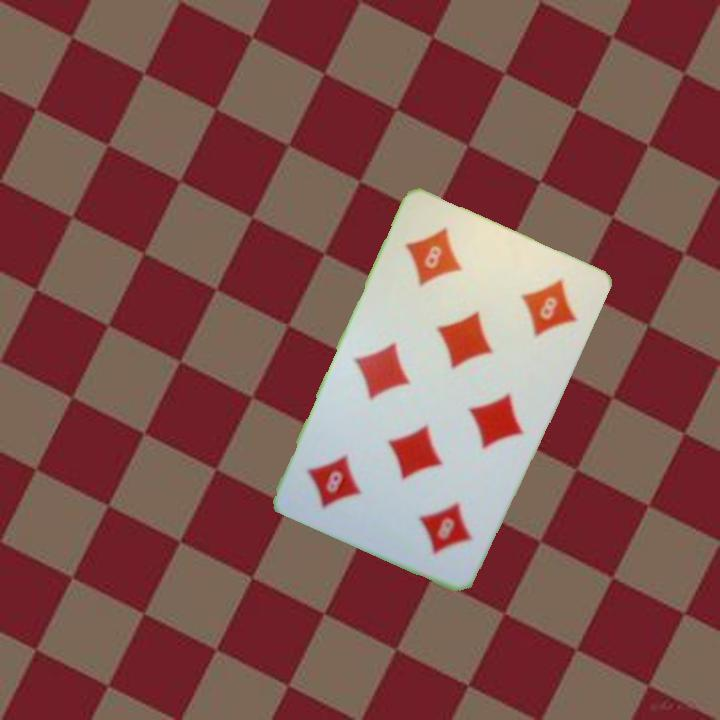d_8.png: (372, 459, 497, 576), (383, 205, 508, 322)
